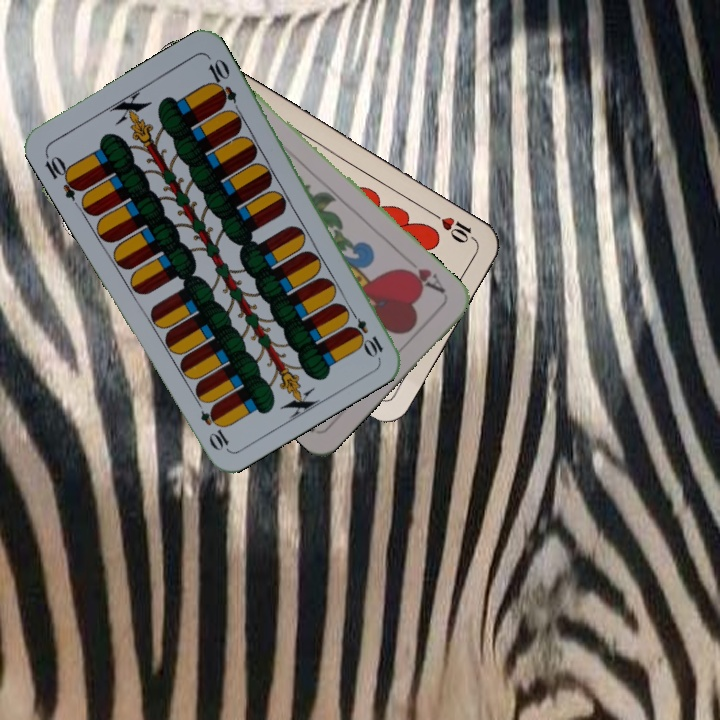E10: (40, 149, 86, 203), (344, 305, 386, 359)
H10: (427, 207, 480, 246)
HA: (397, 263, 448, 297)
